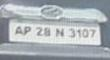0: (43, 25, 51, 36), (81, 27, 89, 38), (89, 27, 96, 38)
1: (76, 27, 82, 37)
2: (35, 24, 43, 36)
3: (67, 27, 75, 37)
A: (13, 24, 22, 35)
N: (54, 26, 63, 36)
P: (23, 25, 30, 35)
